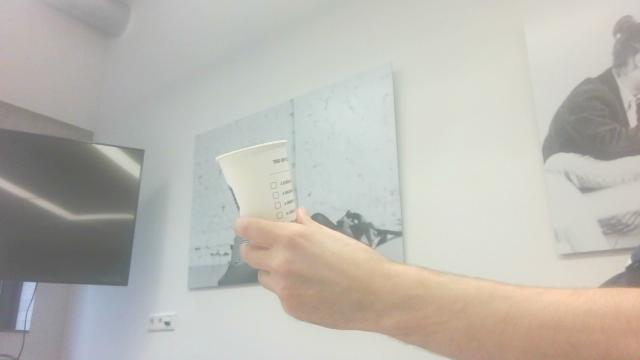cup: (209, 136, 303, 223)
